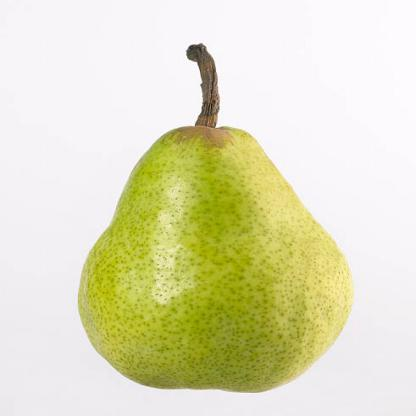Paer: (95, 47, 353, 396)
